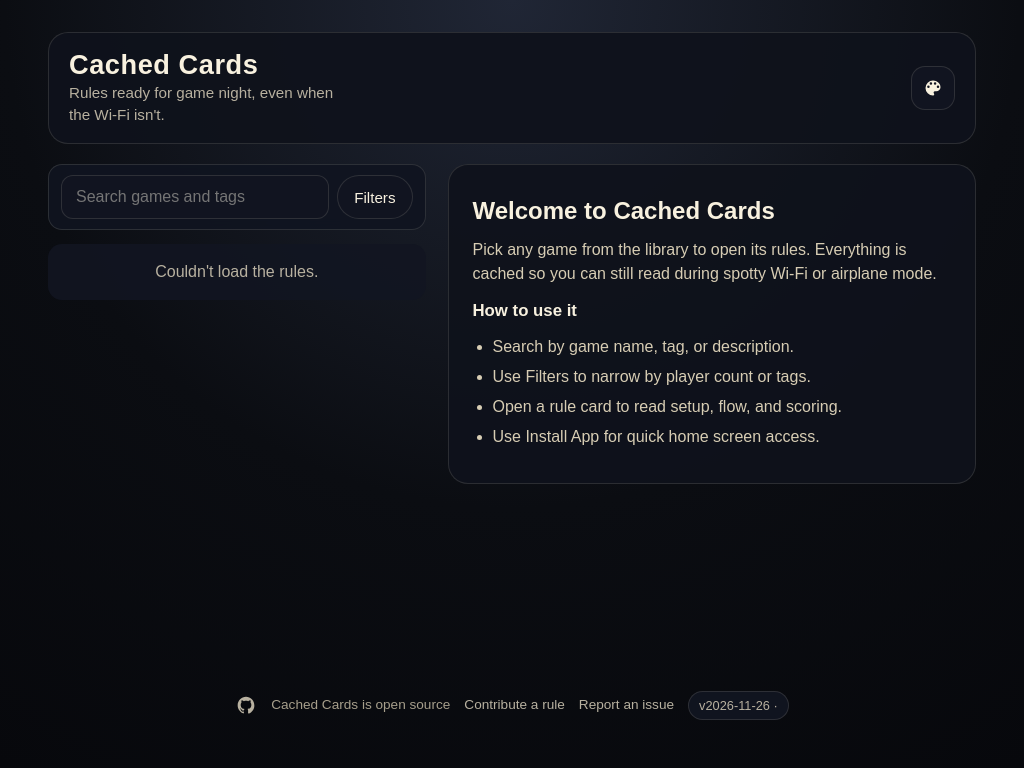
Test: theme picker › applies and stores a theme chosen from the picker
Click the button named "Theme:". click: (933, 88)
box: [911,66,955,110]
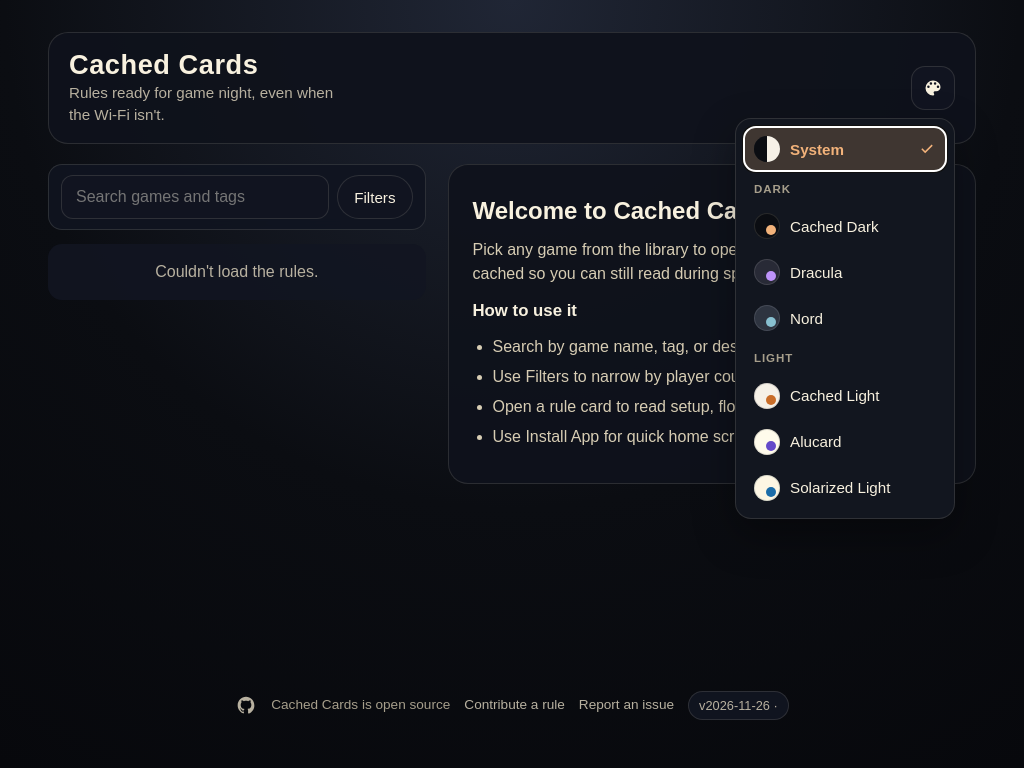
Click the menu item "Dracula". click: (845, 272)
box: [744,250,946,294]
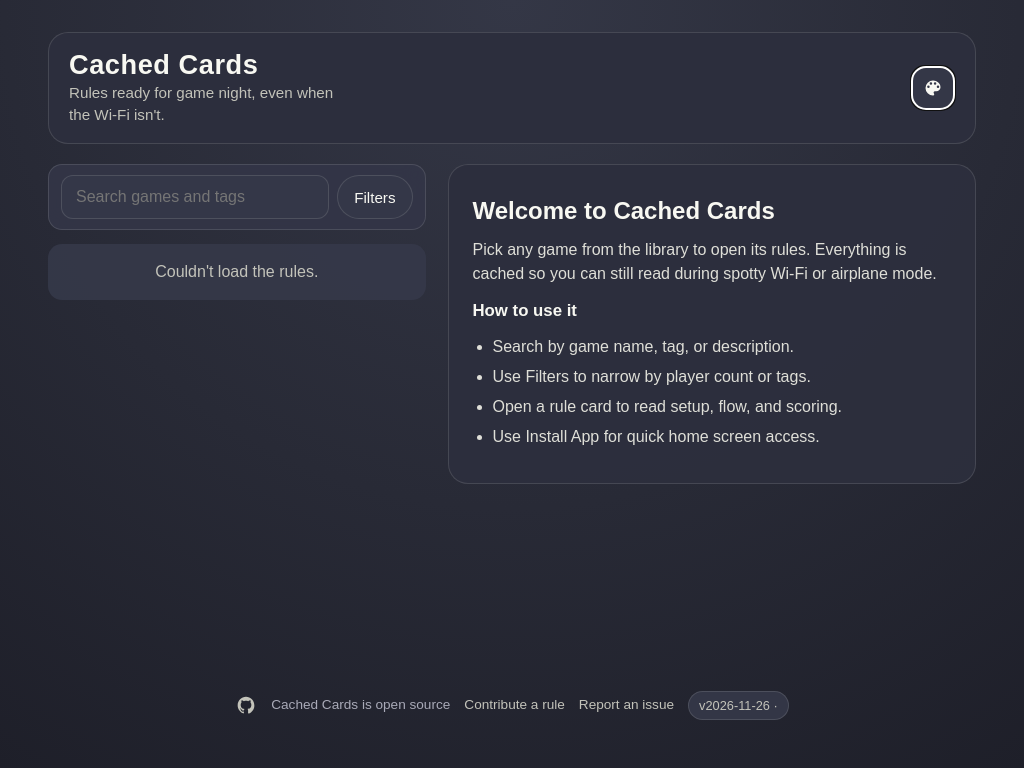
Check: the menu "Theme" is gone
